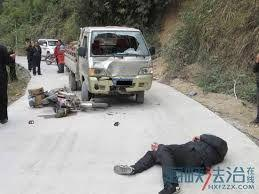Fall-Detected: (106, 124, 231, 194)
